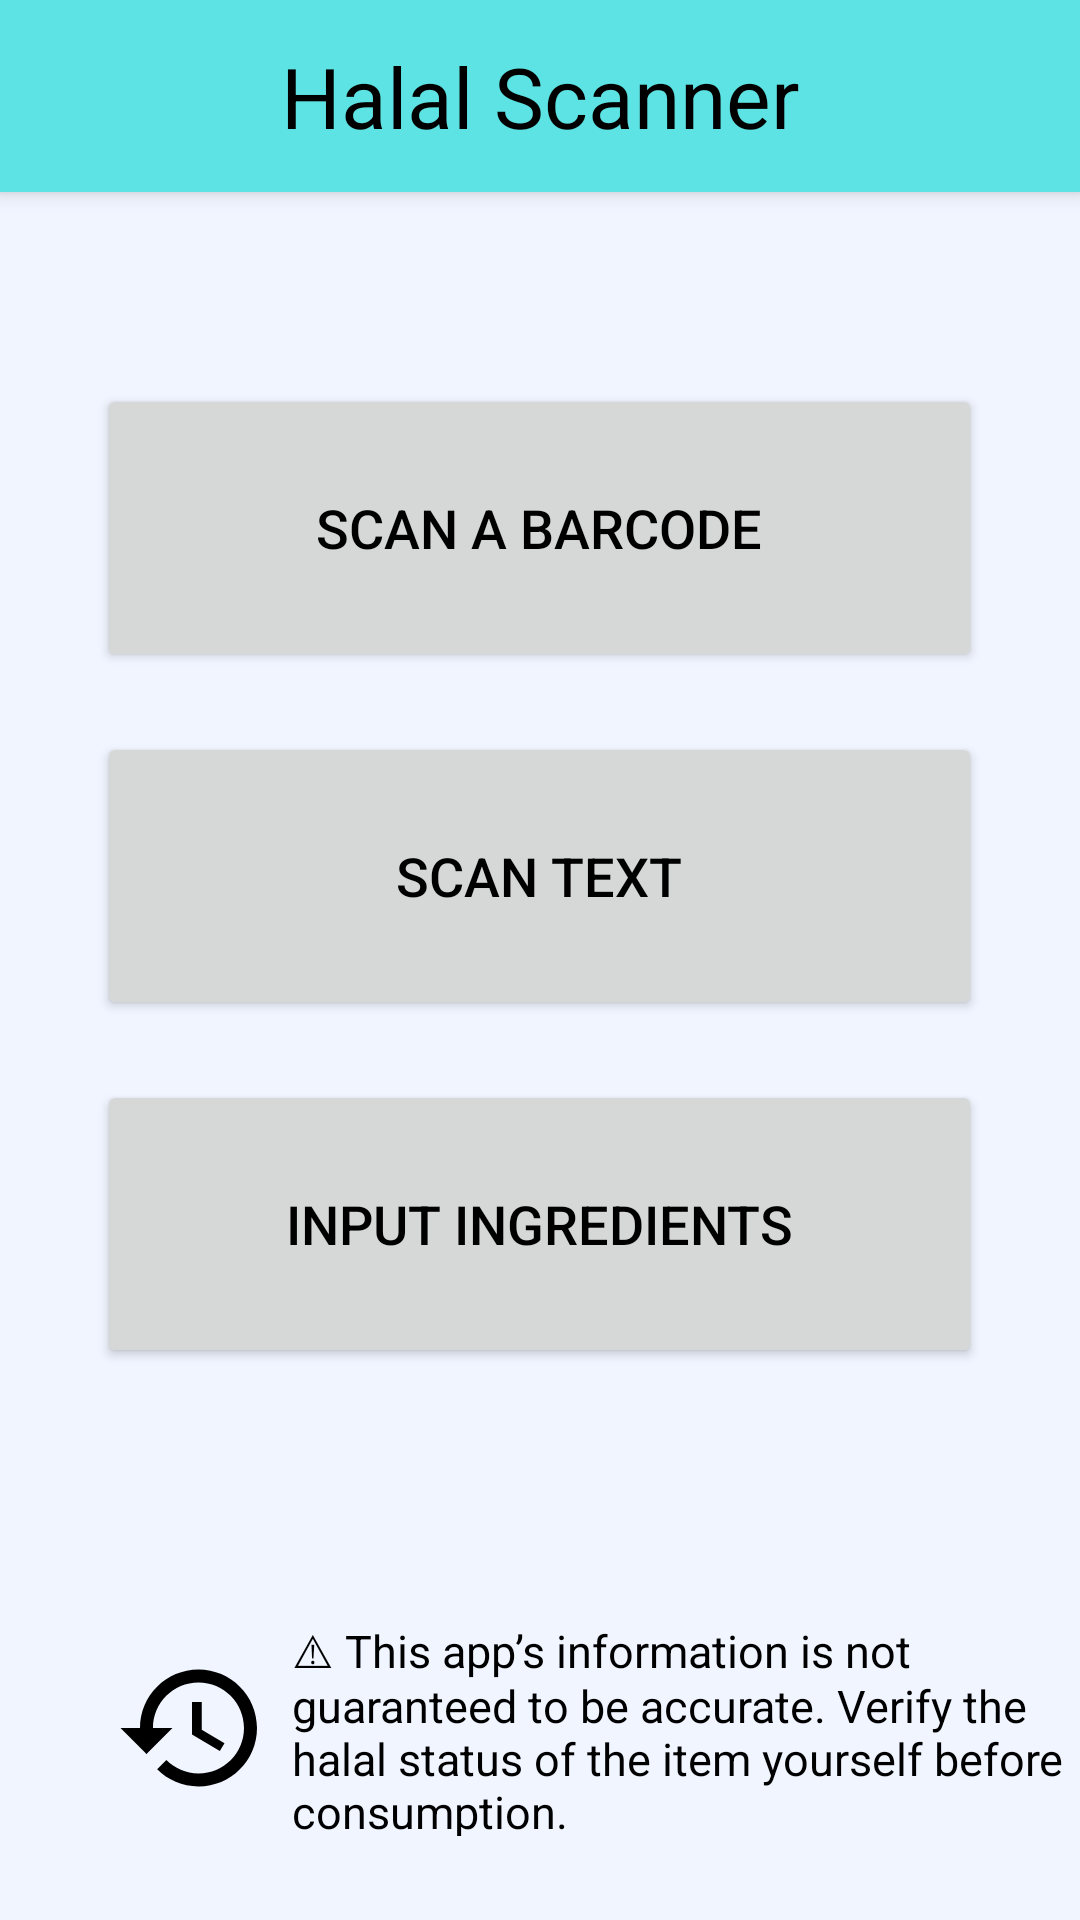

Locate icon controls on the screen. Image size 1080x1920, boxes as [left=x1, top=y1, right=x2, bottom=y2].
History: [left=120, top=1669, right=257, bottom=1787]
